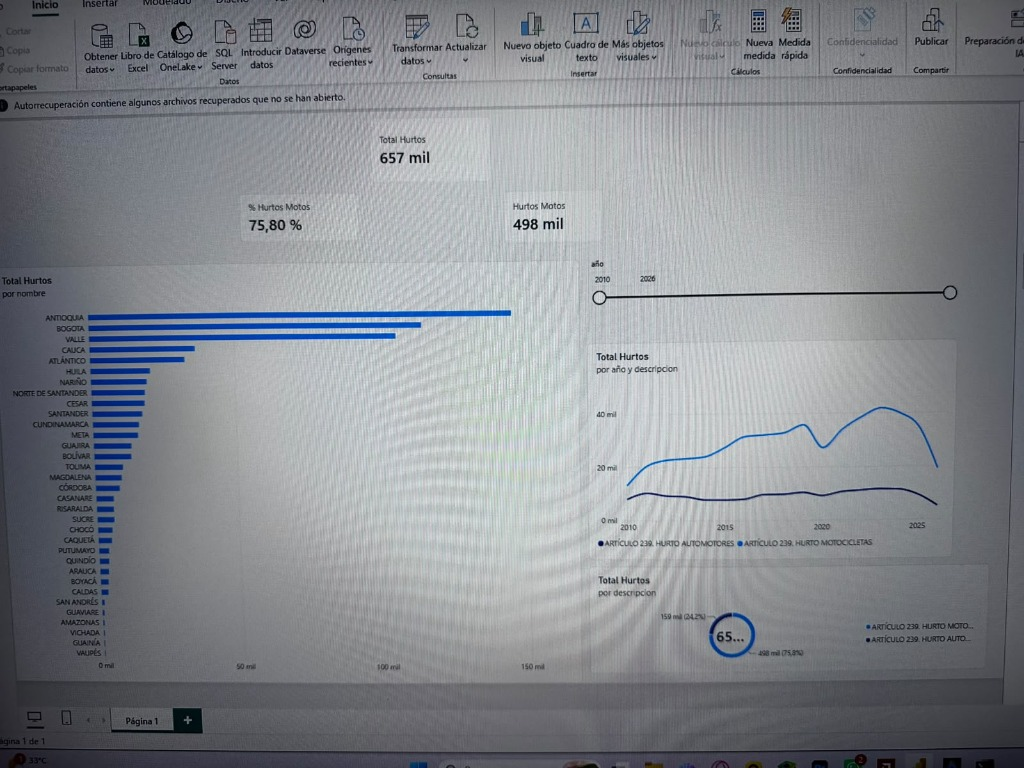

What the dashboard file says about the page in this screenshot:
{"tool":"powerbi","page":{"name":"Página 1","canvas":[1920,1080],"ordinal":0},"visuals":[{"type":"cardVisual","fields":{"Data":["public fact_hurtos.Total Hurtos"]},"box":[726.6,11.7,223.2,116.7],"z":0},{"type":"cardVisual","fields":{"Data":["public fact_hurtos.% Hurtos Motos"]},"box":[480,145.9,221.8,89],"z":1},{"type":"cardVisual","fields":{"Data":["public fact_hurtos.Hurtos Motos"]},"box":[971.7,145.9,185.3,94.8],"z":2},{"type":"lineChart","fields":{"Category":["public dim_fecha.año"],"Series":["public dim_tipo_hurto.descripcion"],"Y":["public fact_hurtos.Total Hurtos"]},"box":[1126.3,428.9,687.2,412.9],"z":3},{"type":"donutChart","fields":{"Category":["public dim_tipo_hurto.descripcion"],"Y":["public fact_hurtos.Total Hurtos"]},"box":[1126.3,855,758.7,205.7],"z":4},{"type":"barChart","fields":{"Category":["public dim_departamento.nombre"],"Y":["public fact_hurtos.Total Hurtos"]},"box":[0,272.8,1111.7,806.8],"z":5},{"type":"slicer","fields":{"Values":["public dim_fecha.año"]},"box":[1126.3,272.8,687.2,141.5],"z":6}]}

Visuals, with their boxes on the page's 1920x1080 design canvas (x1, y1, x2, y2). These are canvas units, not pixel positions in the 1024x768 screenshot, which may show the page scaled, cropped or inside an application window:
cardVisual - public fact_hurtos.Total Hurtos: [727,12,950,128]
cardVisual - public fact_hurtos.% Hurtos Motos: [480,146,702,235]
cardVisual - public fact_hurtos.Hurtos Motos: [972,146,1157,241]
lineChart - public dim_fecha.año x public dim_tipo_hurto.descripcion: [1126,429,1814,842]
donutChart - public dim_tipo_hurto.descripcion x public fact_hurtos.Total Hurtos: [1126,855,1885,1061]
barChart - public dim_departamento.nombre x public fact_hurtos.Total Hurtos: [0,273,1112,1080]
slicer - public dim_fecha.año: [1126,273,1814,414]
